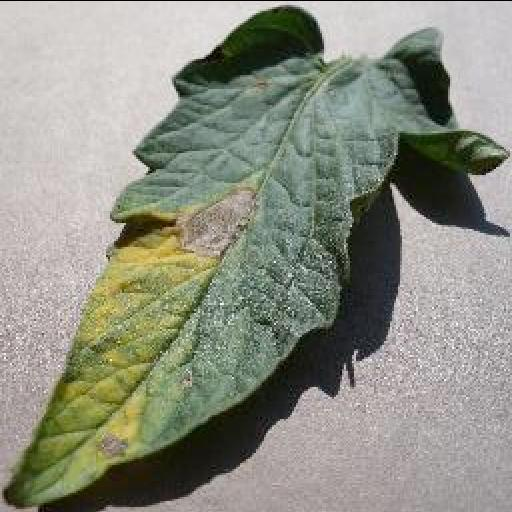disease_tomato: (2, 4, 510, 505)
